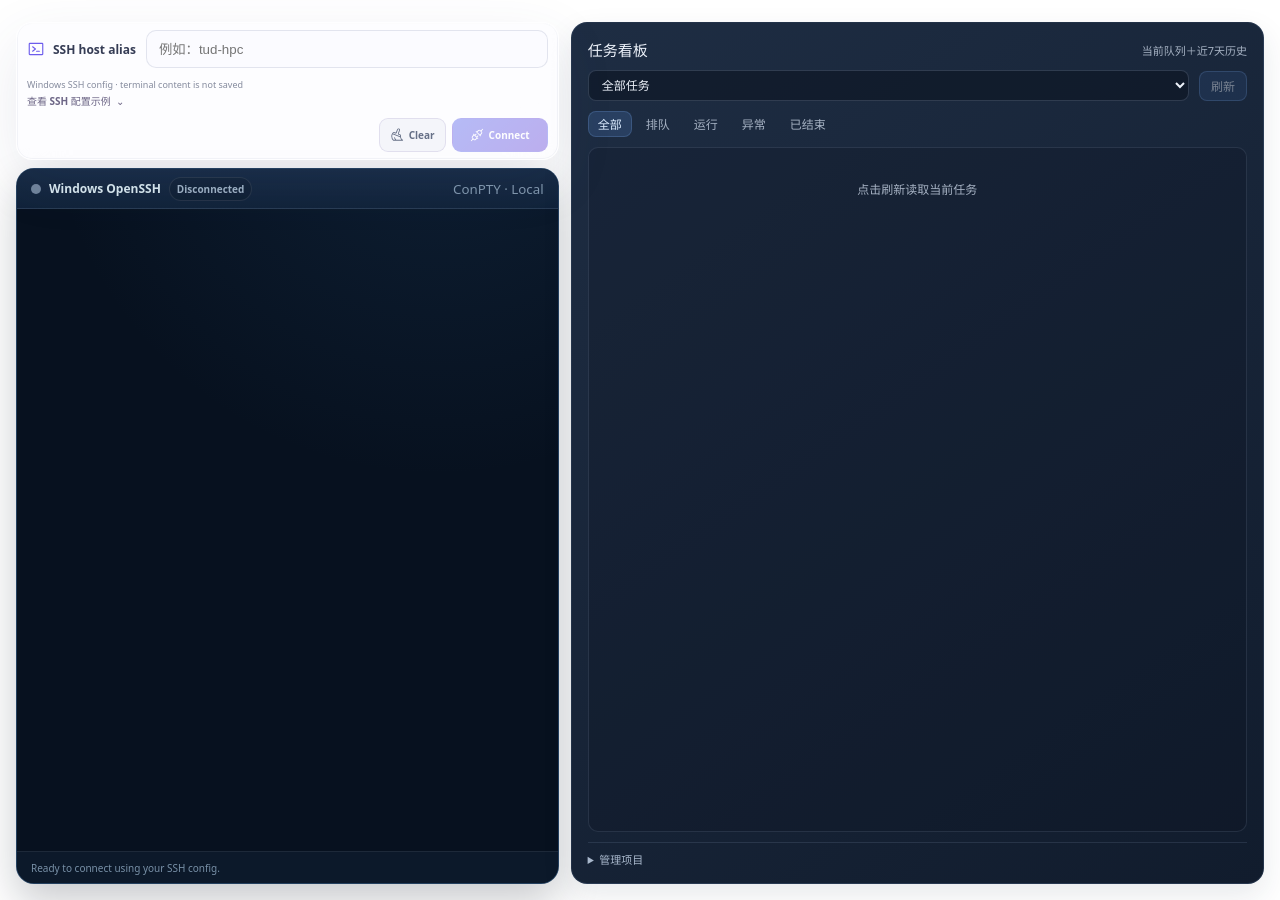
it: HpcPage › keeps the desensitized SSH configuration example collapsed by default
Click the heading "查看 SSH 配置示例" at (76, 100), box [27,93,124,108]
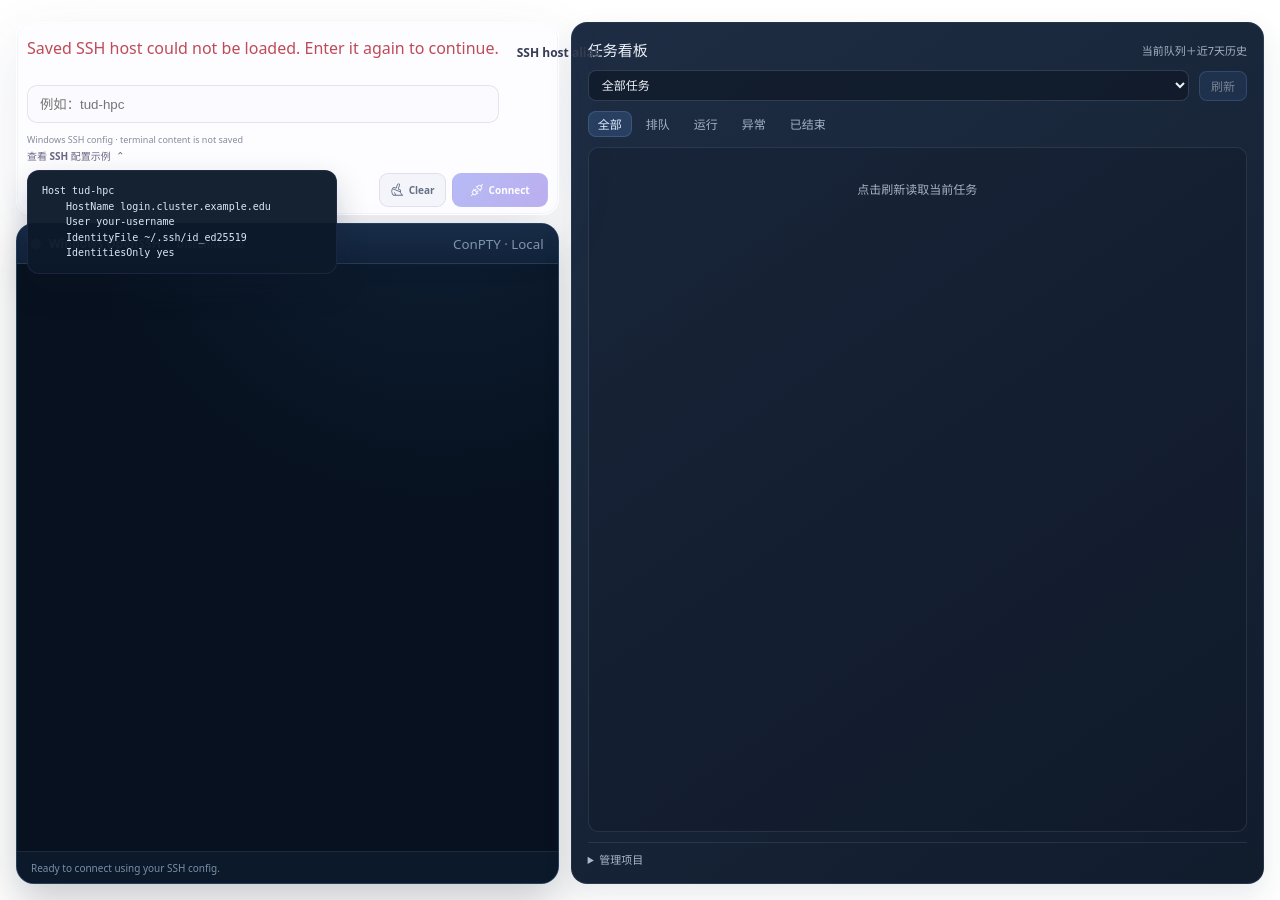
Check: the text named "SSH 配置示例" shows "Host tud-hpc HostName login.cluster.example.edu User your-username IdentityFile ~/.ssh/id_ed25519 IdentitiesOnly yes", box [42,185,271,258]
